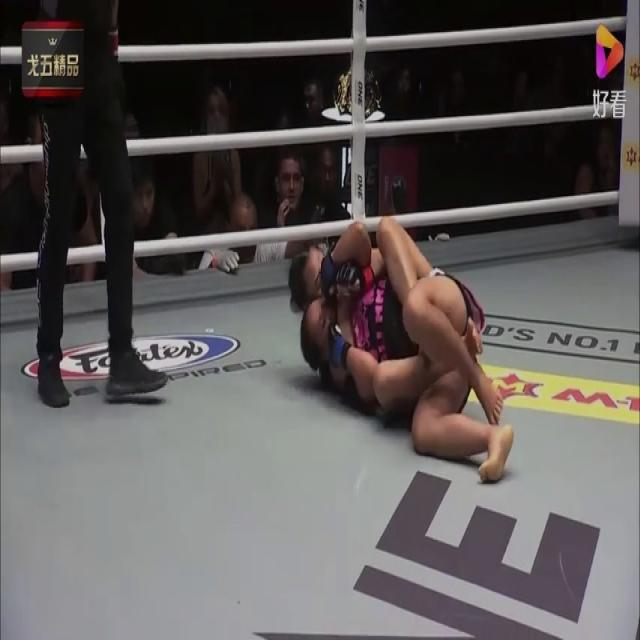fight: (278, 202, 524, 486)
